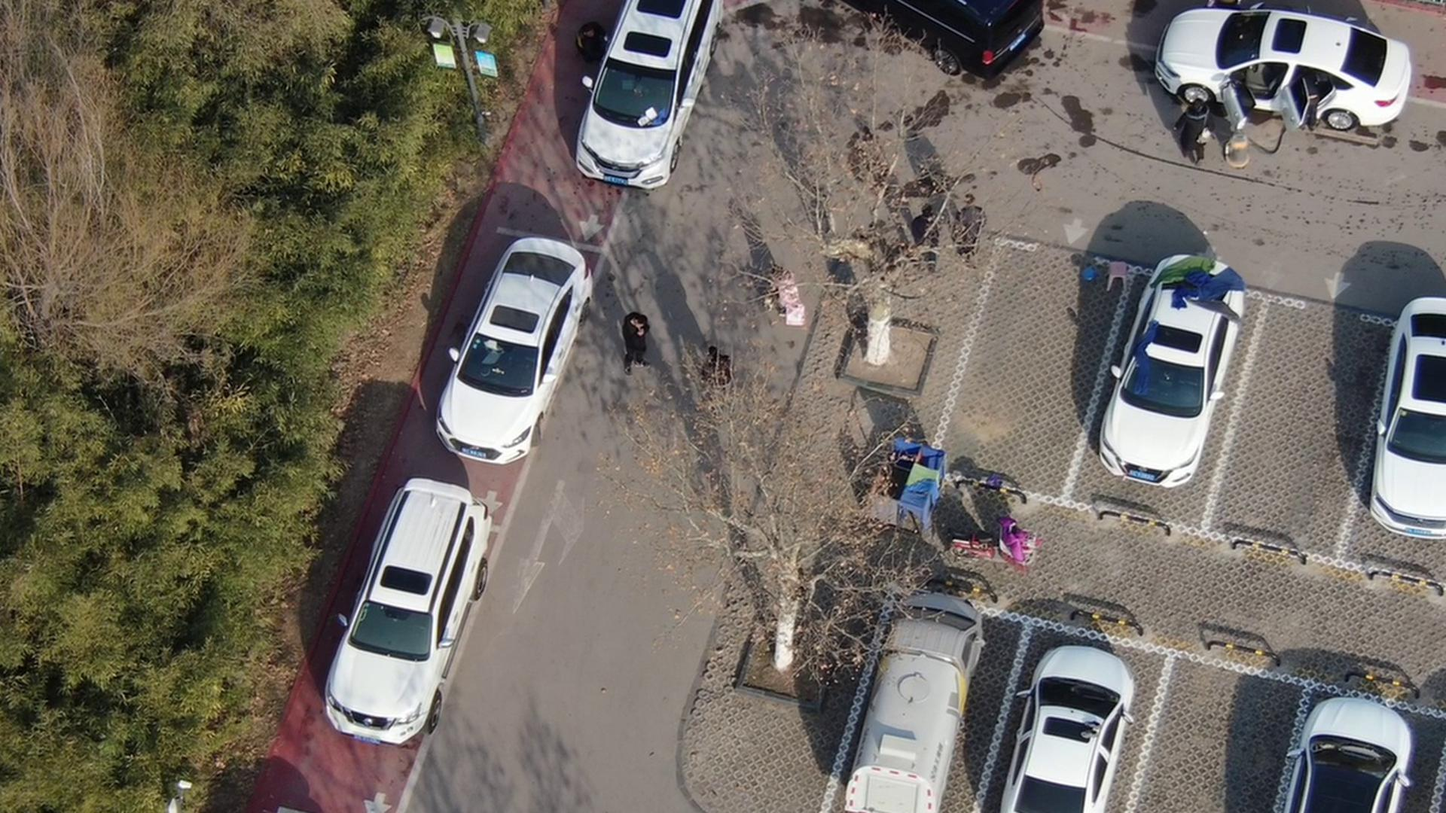human: (956, 194, 999, 266), (1182, 88, 1219, 166), (773, 254, 810, 330), (700, 343, 738, 416), (1290, 62, 1327, 136), (623, 303, 655, 382), (919, 196, 953, 269), (580, 15, 627, 65)
